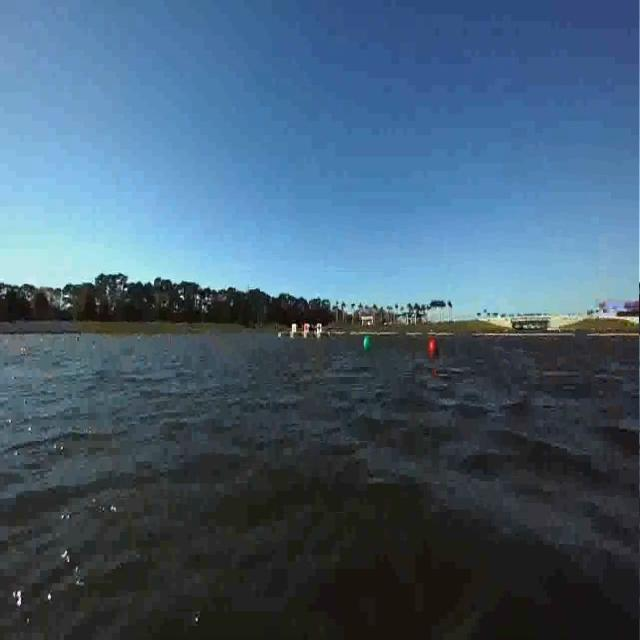green-buoy: (362, 334, 374, 354)
red-column-buoy: (428, 339, 437, 353)
